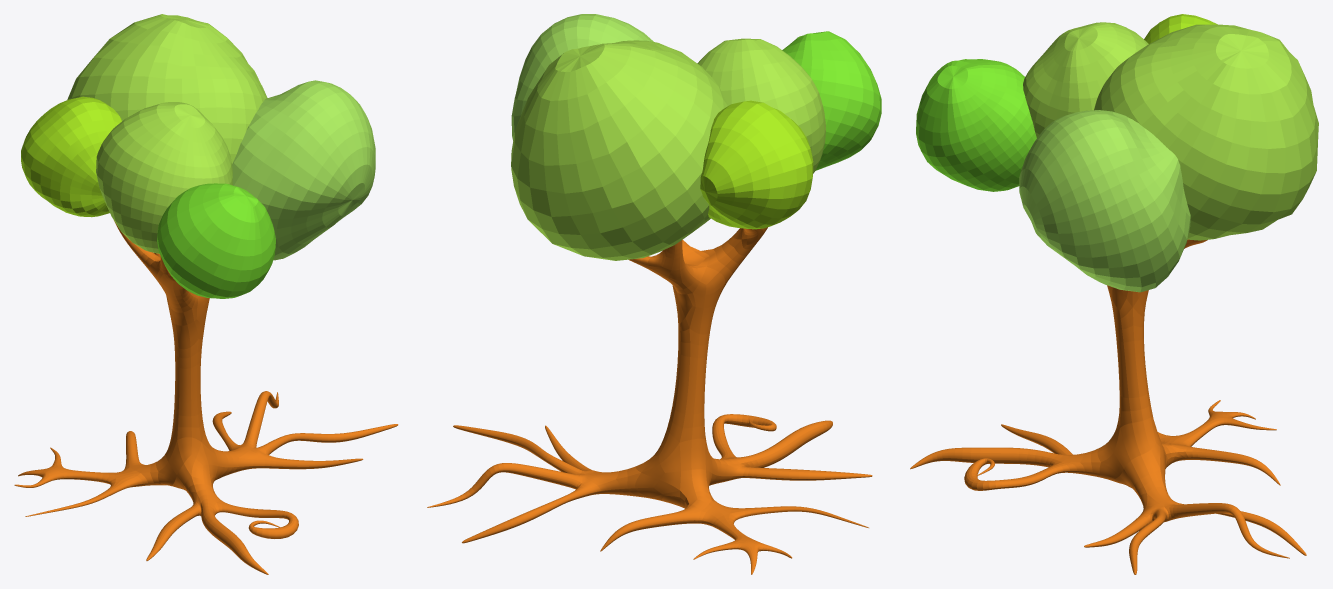
The model's file is Arvore_viva_2_.fbx.
The picture shows the model from 3 angles, left to right: view 1: azimuth 30°, elevation 25°; view 2: azimuth 150°, elevation 25°; view 3: azimuth 270°, elevation 25°; orthographic projection. The views are drawn at different scales.
Visible parts, largest first — view 1: Vert.001, Sphere.001, Sphere.003, Sphere, Sphere.002, Sphere.004; view 2: Sphere.003, Vert.001, Sphere.004, Sphere.002, Sphere, Sphere.001; view 3: Sphere.003, Sphere.001, Vert.001, Sphere.002, Sphere, Sphere.004.
Part boxes in pixels (left/top/right/bottom): Vert.001: left=14, top=221, right=398, bottom=574; Sphere.001: left=232, top=80, right=375, bottom=260; Sphere.003: left=67, top=14, right=267, bottom=164; Sphere: left=96, top=102, right=232, bottom=253; Sphere.002: left=157, top=183, right=275, bottom=298; Sphere.004: left=21, top=96, right=121, bottom=217; Sphere.003: left=511, top=40, right=728, bottom=260; Vert.001: left=427, top=227, right=872, bottom=574; Sphere.004: left=700, top=100, right=813, bottom=229; Sphere.002: left=782, top=31, right=881, bottom=170; Sphere: left=697, top=38, right=825, bottom=173; Sphere.001: left=511, top=14, right=653, bottom=140; Sphere.003: left=1094, top=24, right=1318, bottom=240; Sphere.001: left=1019, top=110, right=1190, bottom=292; Vert.001: left=910, top=239, right=1306, bottom=574; Sphere.002: left=916, top=59, right=1036, bottom=191; Sphere: left=1023, top=22, right=1148, bottom=137; Sphere.004: left=1144, top=14, right=1217, bottom=43.
Size of the model in its own units: 834 by 943 by 737.
